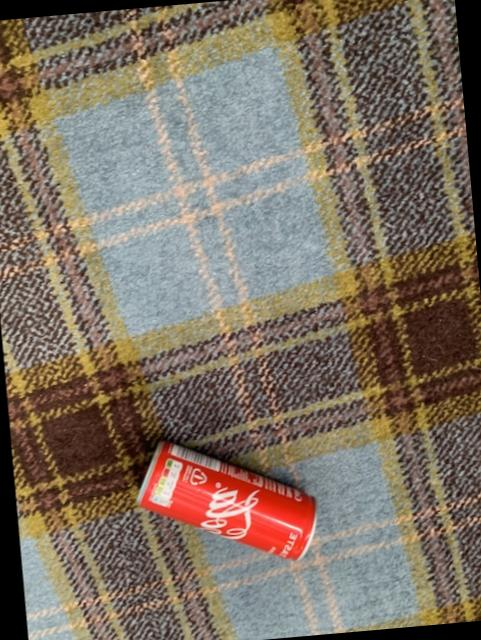metal: (138, 439, 316, 557)
